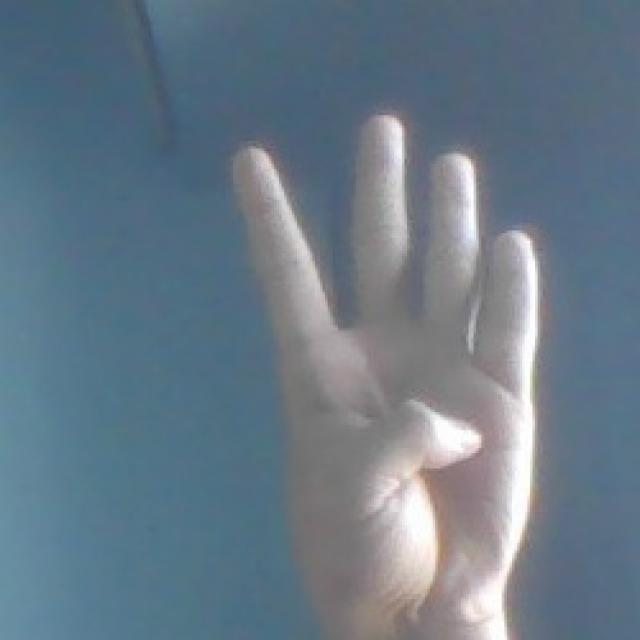Numeric-4: (230, 110, 537, 622)
